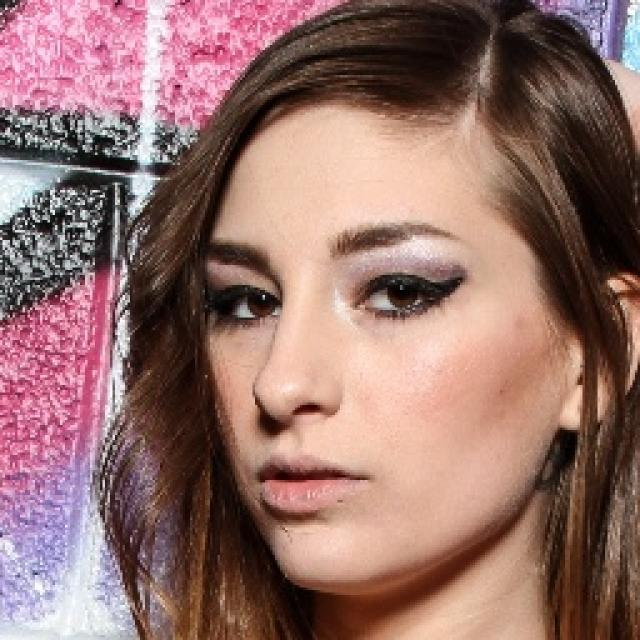earlobe: (561, 392, 613, 432)
eye: (348, 270, 450, 320), (222, 281, 281, 328)
nose: (266, 412, 340, 447)
wholeear: (561, 269, 640, 429)
